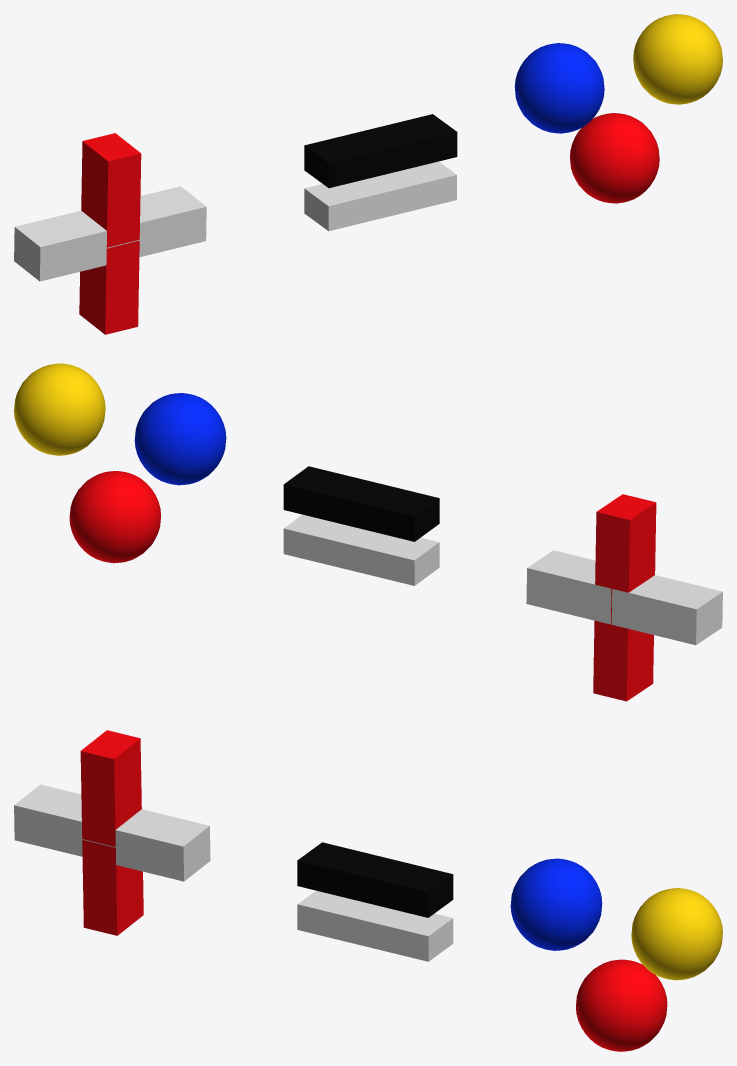
Rendered from Joystick.fbx.
The picture shows the model from 3 angles, top to bottom: view 1: azimuth 30°, elevation 25°; view 2: azimuth 150°, elevation 25°; view 3: azimuth 330°, elevation 25°; orthographic projection.
Visible parts, largest first — view 1: Cube.031; view 2: Cube.031; view 3: Cube.031.
Part boxes in pixels (x1=…): Cube.031: x1=14, y1=14, x2=722, y2=334; Cube.031: x1=14, y1=363, x2=722, y2=701; Cube.031: x1=14, y1=730, x2=722, y2=1051.
Size of the model in its own units: 71.38 by 17.7 by 9.01.
